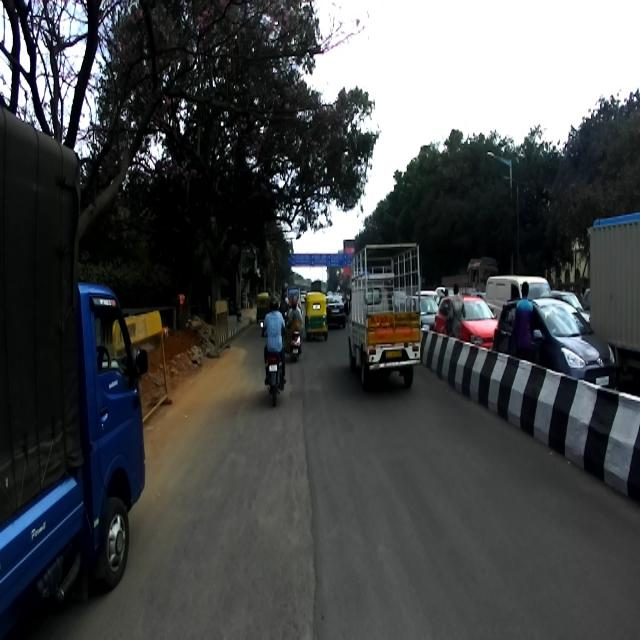autorickshaw: (304, 288, 328, 344)
car: (492, 294, 617, 390), (484, 274, 552, 330), (433, 294, 499, 351)
motorcycle: (258, 318, 286, 406)
scooter: (284, 309, 306, 362)
truck: (0, 116, 147, 639)
